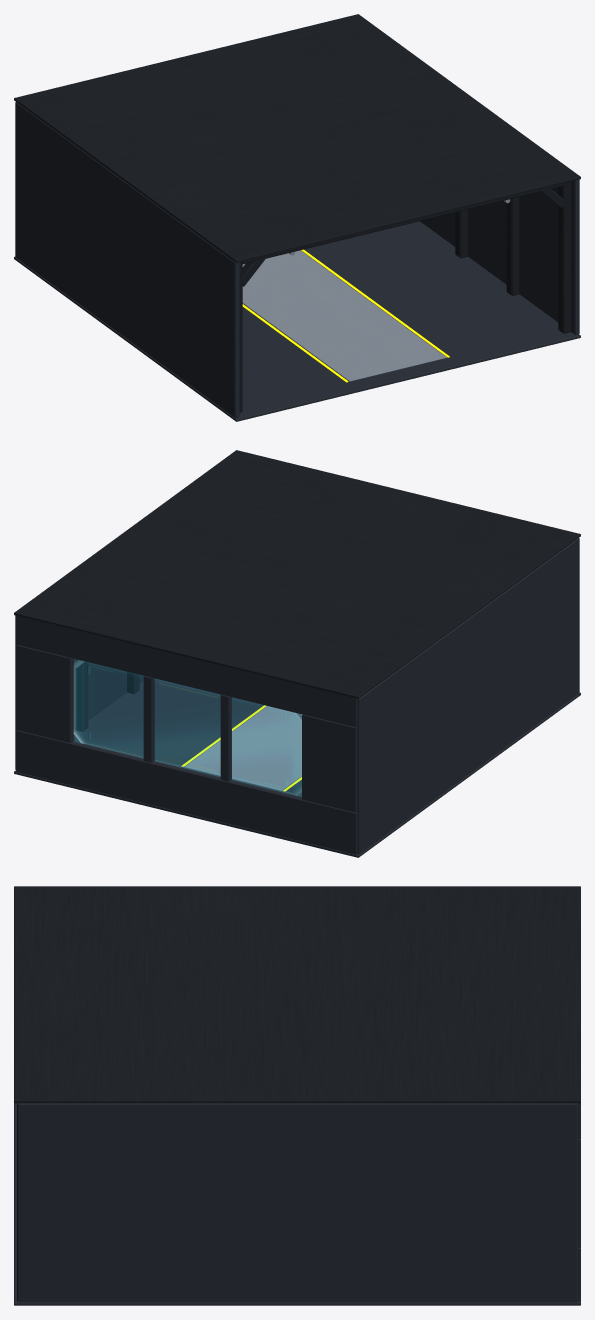
File: room_09_engineering_shell.glb
3 views of the same model, one above another, from view 1: azimuth 30°, elevation 25°; view 2: azimuth 150°, elevation 25°; view 3: azimuth 270°, elevation 25° (orthographic). The views are drawn at different scales.
Visible parts, largest first — view 1: Room09_OctagonalTitaniumRibs, Room09_CarbonSlateDeckAndBulkheads, Room09_CryoBusPipesAndTrenchGrates, Room09_AmberHighVoltageBusBars; view 2: Room09_CarbonSlateDeckAndBulkheads, Room09_OctagonalTitaniumRibs, Room09_NorthDeepSpaceTranslucentViewport, Room09_CryoBusPipesAndTrenchGrates; view 3: Room09_OctagonalTitaniumRibs, Room09_CarbonSlateDeckAndBulkheads.
Boxes of the visible parts, x1,y1,x2,y2 form: Room09_OctagonalTitaniumRibs: [14, 14, 580, 412]; Room09_CarbonSlateDeckAndBulkheads: [14, 102, 580, 421]; Room09_CryoBusPipesAndTrenchGrates: [242, 199, 510, 381]; Room09_AmberHighVoltageBusBars: [242, 249, 449, 382]; Room09_CarbonSlateDeckAndBulkheads: [14, 538, 580, 857]; Room09_OctagonalTitaniumRibs: [14, 450, 580, 731]; Room09_NorthDeepSpaceTranslucentViewport: [75, 659, 301, 796]; Room09_CryoBusPipesAndTrenchGrates: [73, 660, 302, 795]; Room09_OctagonalTitaniumRibs: [14, 886, 580, 1103]; Room09_CarbonSlateDeckAndBulkheads: [14, 1103, 580, 1305].
Size of the model in its own units: 8.5 by 3.8 by 9.5.
Materials: 6 (6 with a texture image).
